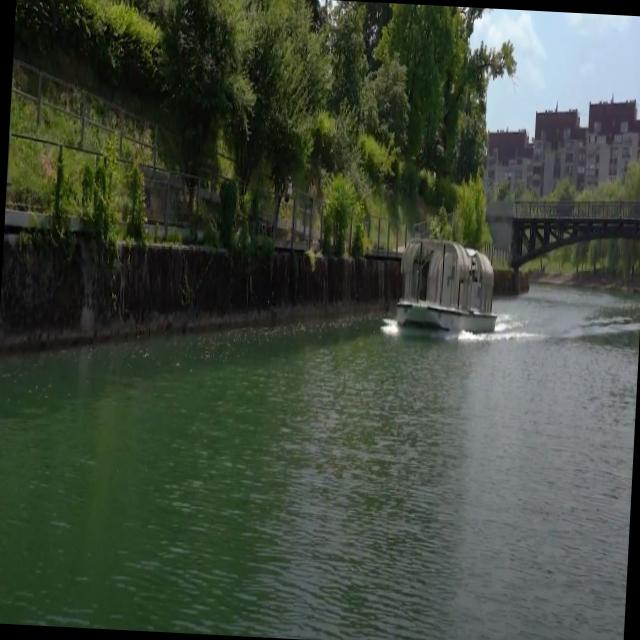boat: (395, 230, 504, 339)
